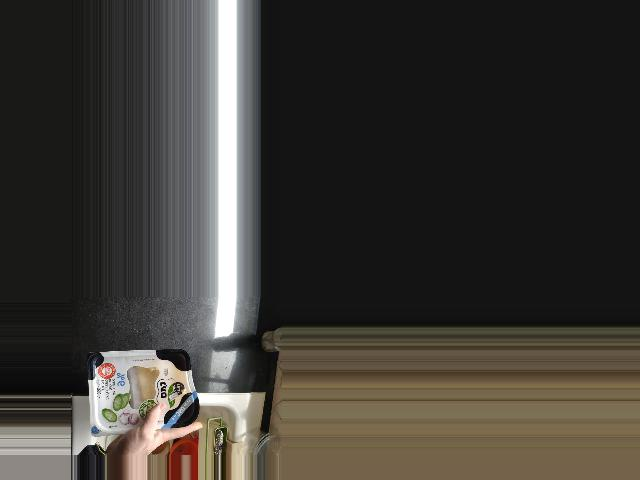cheese: (91, 350, 199, 435)
